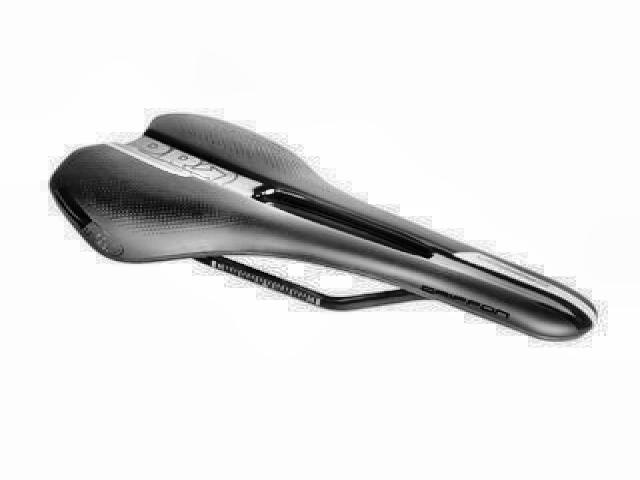saddle: (44, 108, 601, 343)
